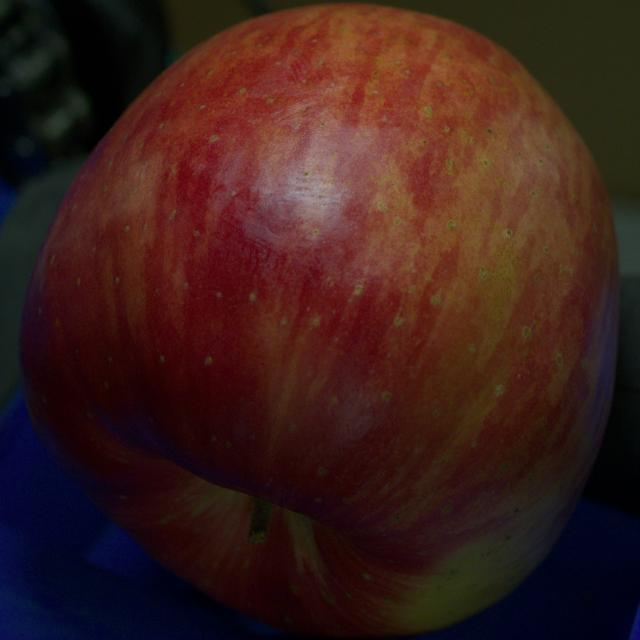apple: (20, 4, 619, 637)
